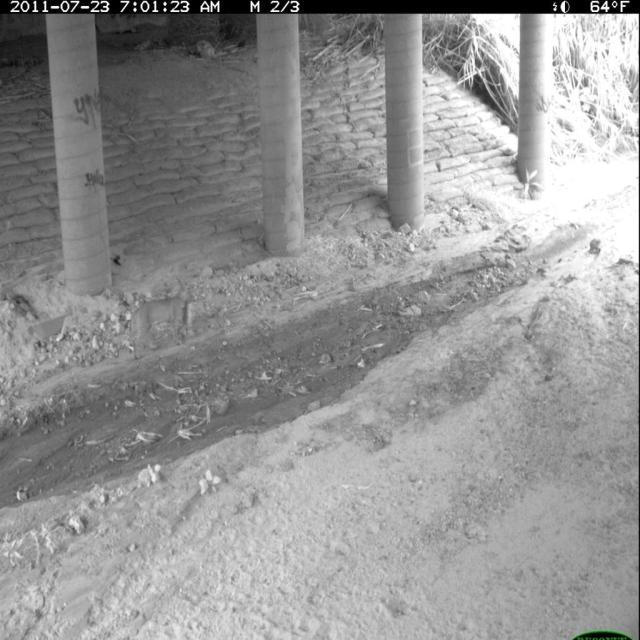bobcat: (126, 280, 199, 363)
rabbit: (182, 294, 197, 341)
